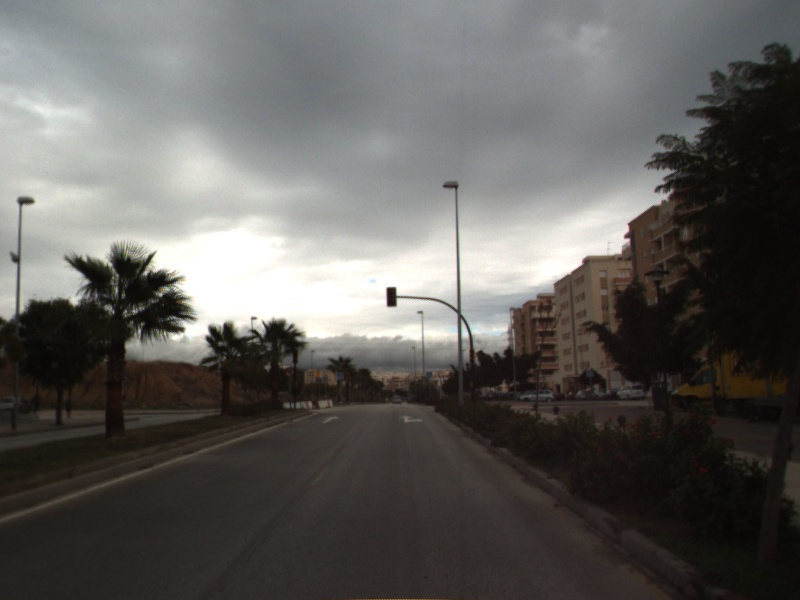STRAIGHT: (320, 414, 341, 425)
STRAIGHT_RIGHT: (398, 413, 425, 425)
